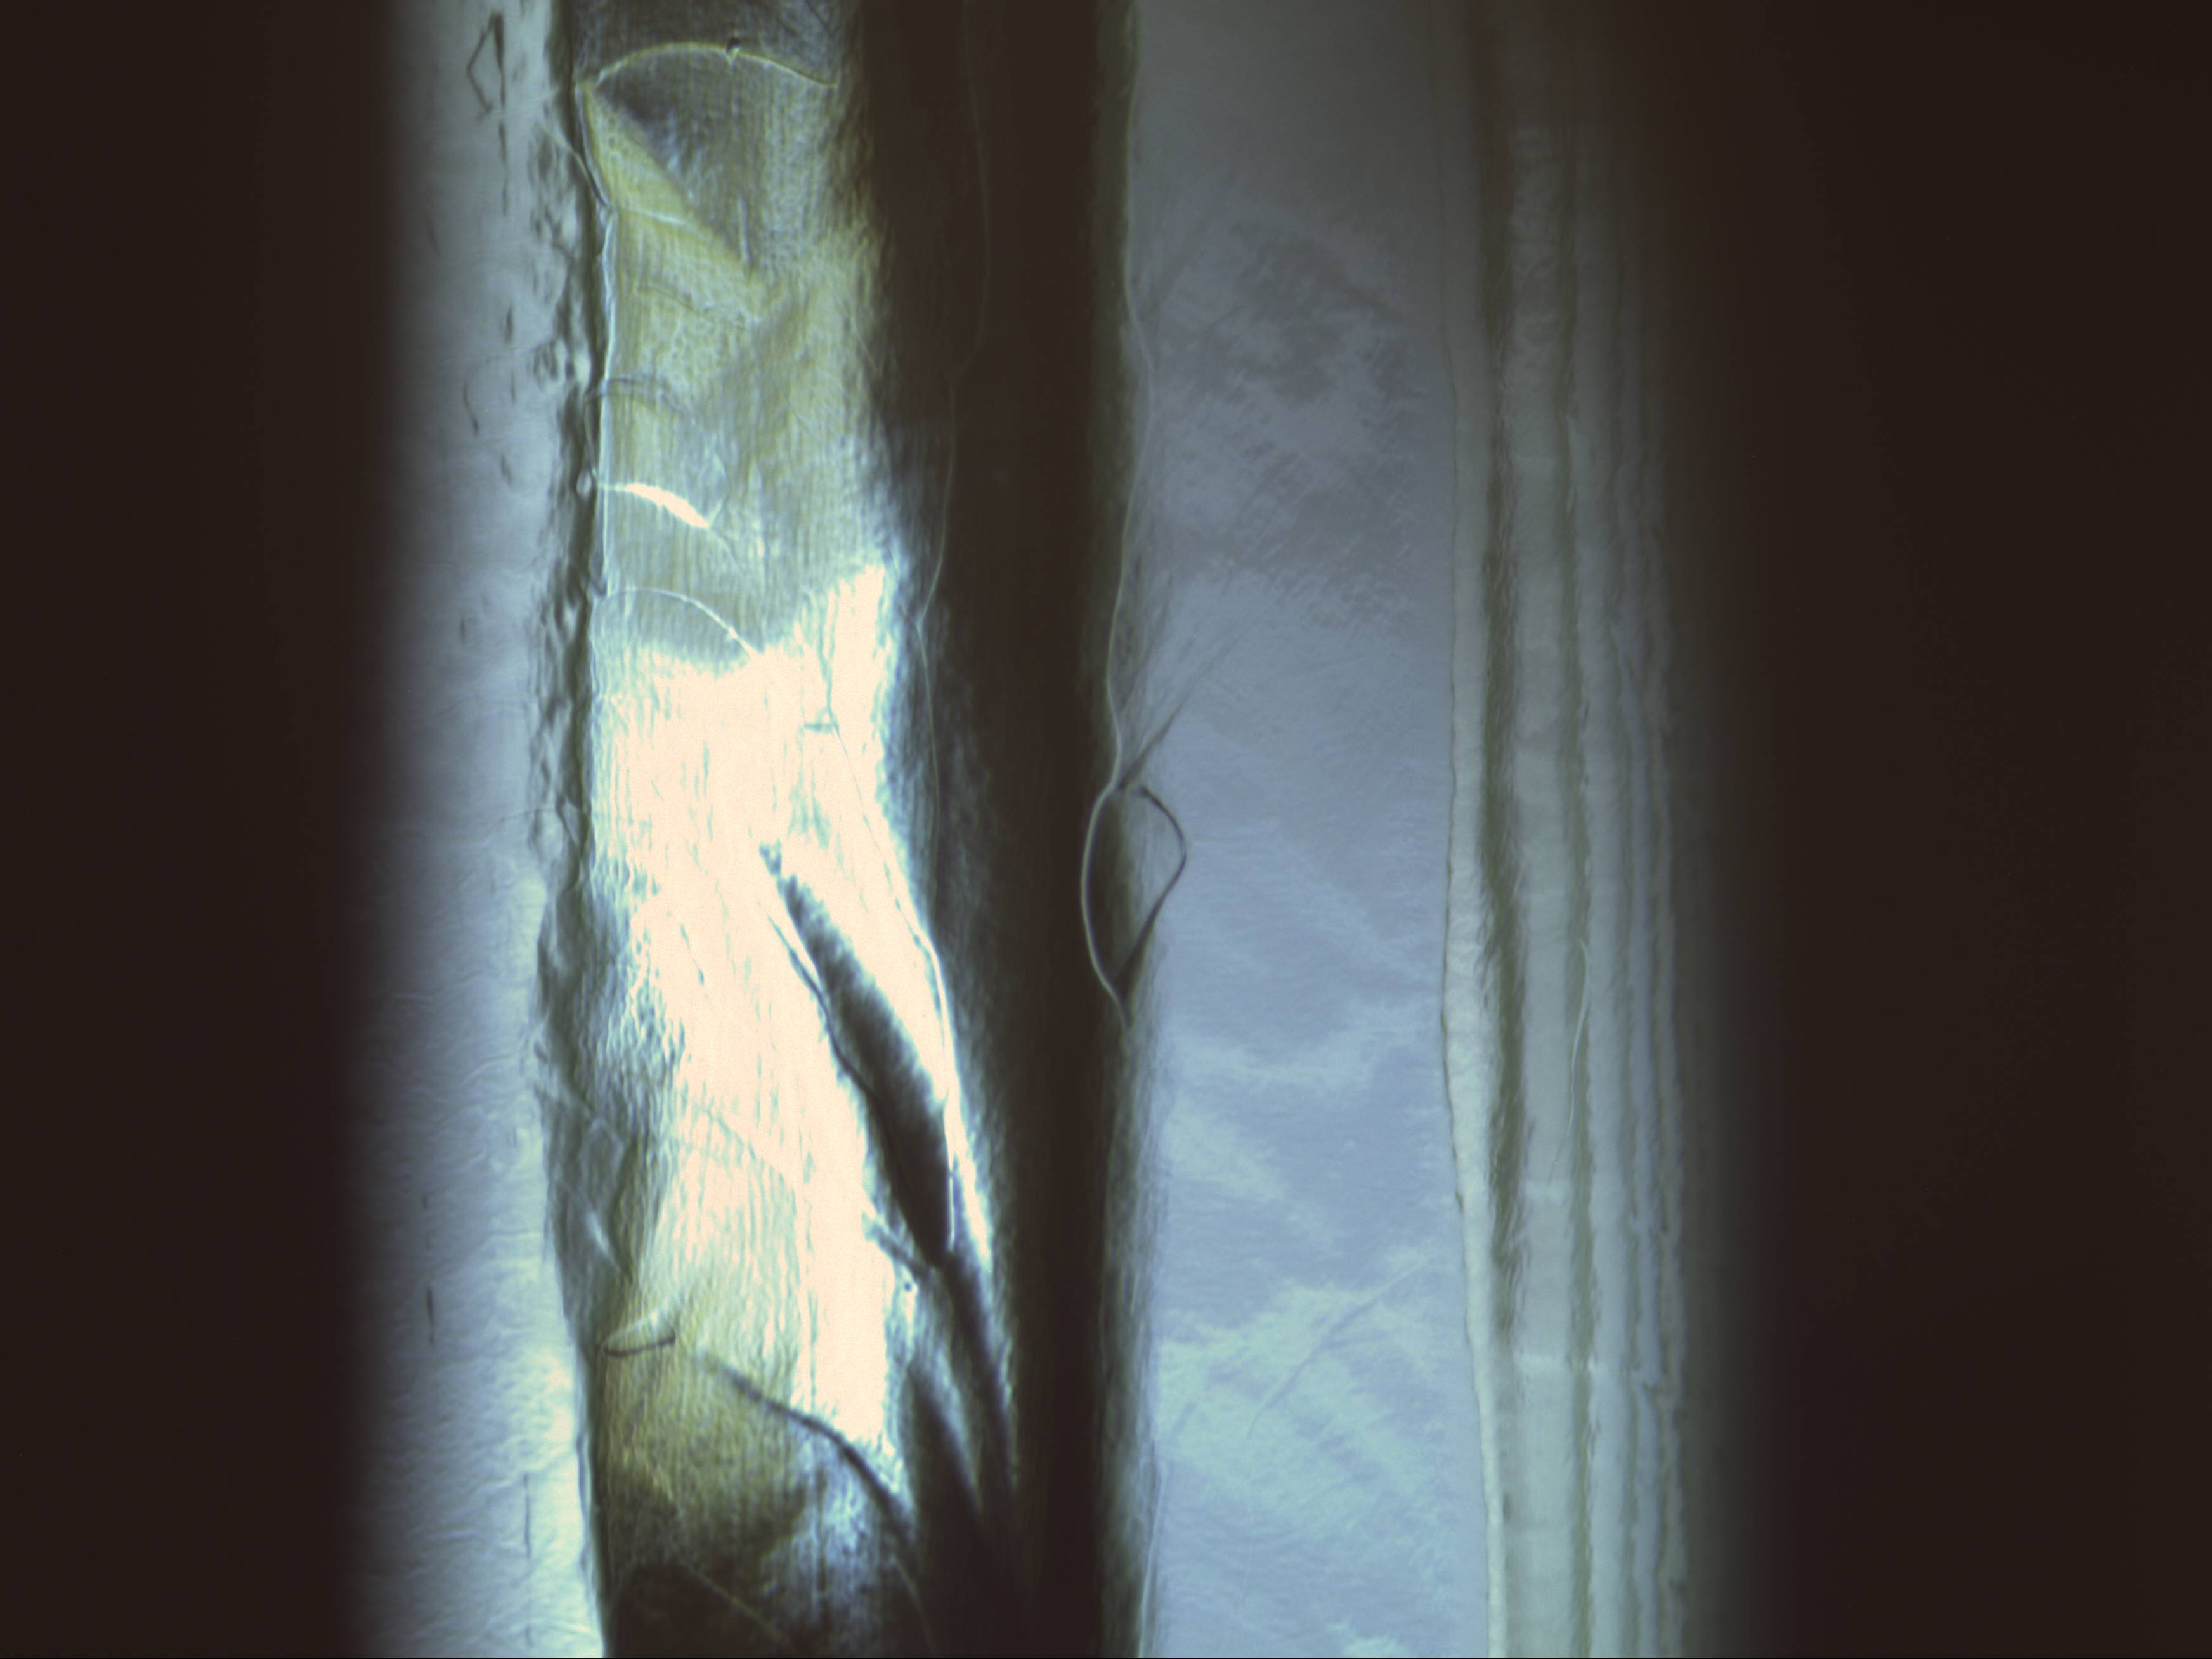defect: (714, 30, 752, 66)
